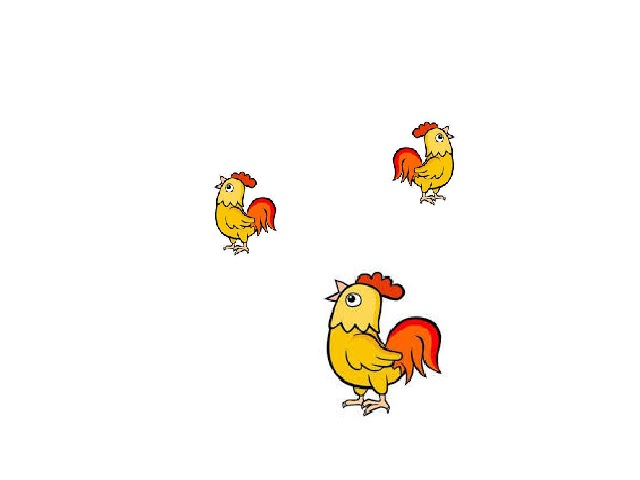crown: (358, 269, 411, 302), (409, 121, 437, 136), (232, 172, 256, 186)
eyes: (347, 294, 362, 306), (436, 134, 445, 146), (223, 184, 234, 193)
feet: (341, 392, 394, 420), (222, 240, 253, 256), (422, 192, 443, 206)
tail: (386, 315, 445, 385), (392, 143, 422, 184), (245, 199, 277, 232)
